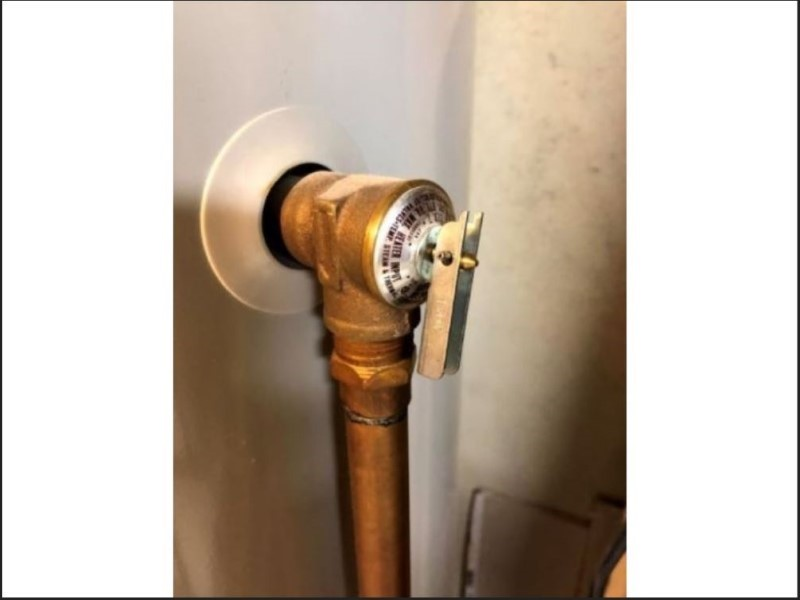Valve: (261, 157, 487, 437)
